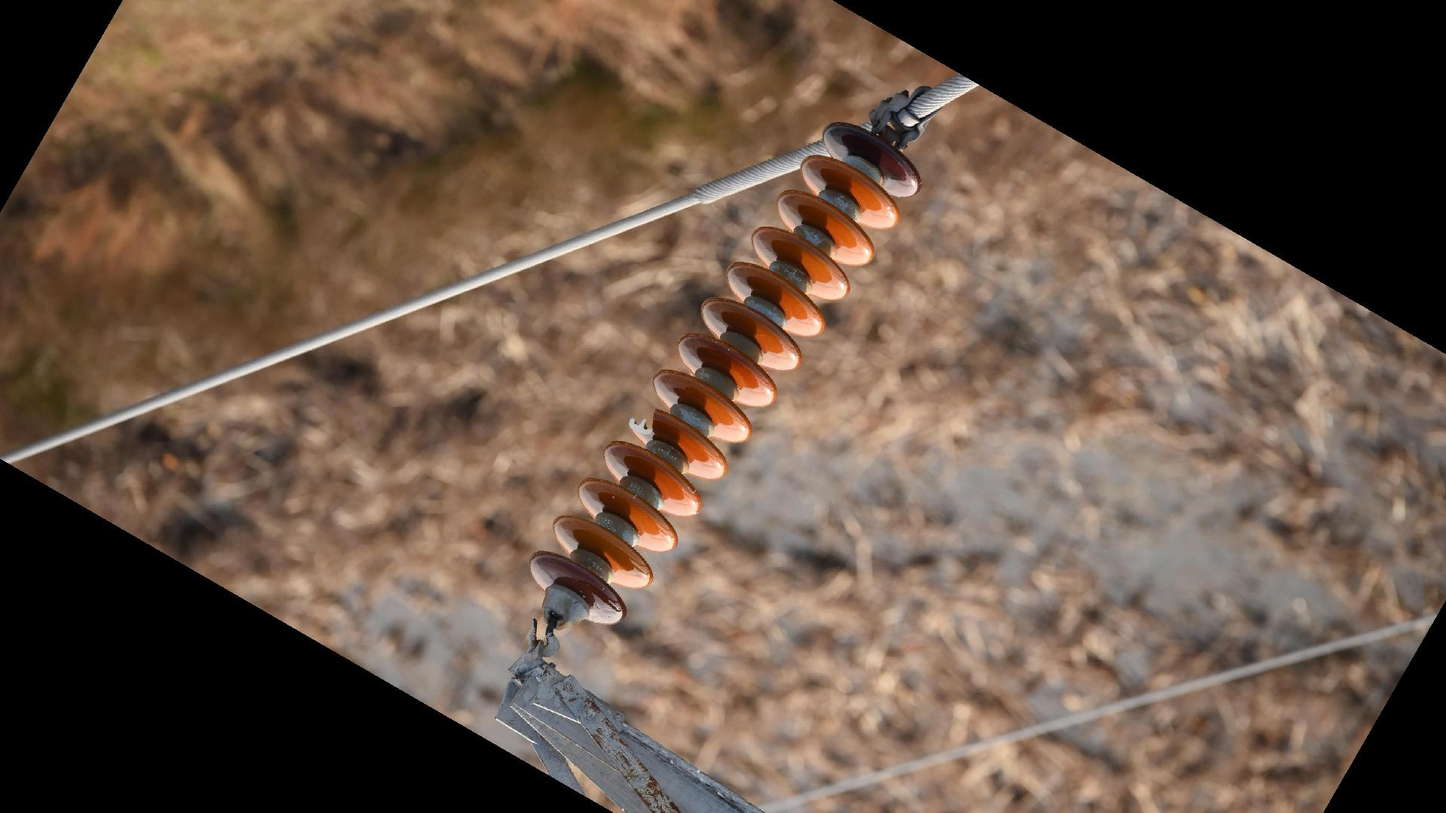insulator: (524, 114, 924, 634)
insulator_breakage: (626, 403, 669, 439)
